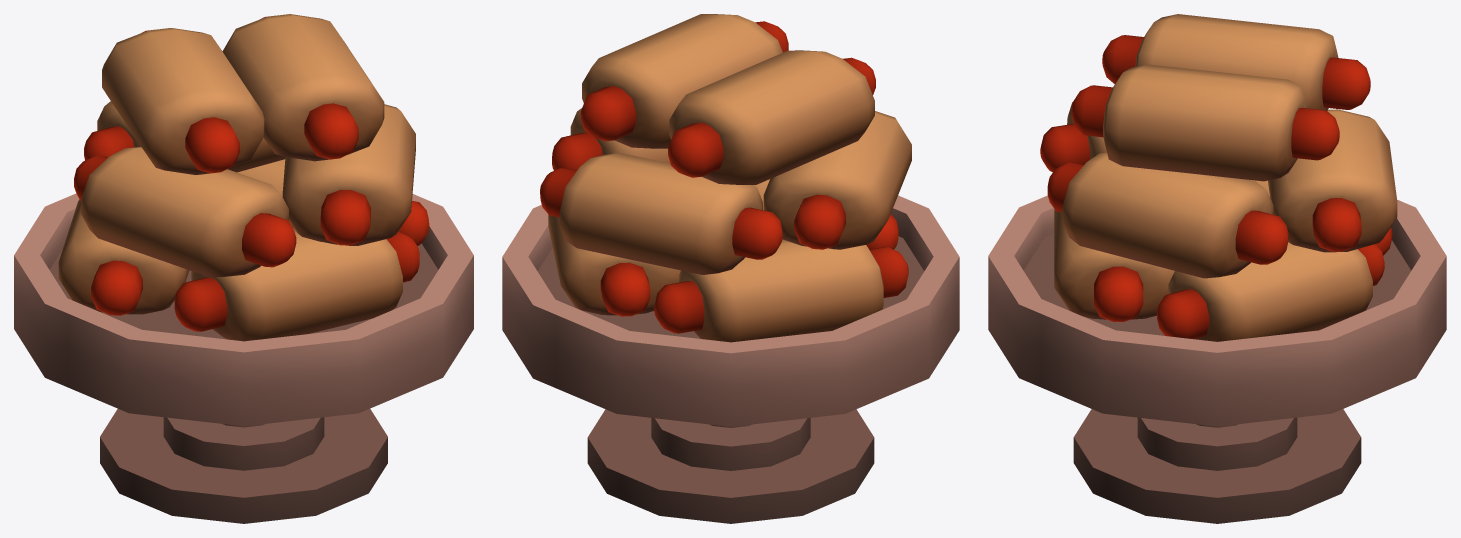
The model's file is Hotdogs.fbx.
3 views of the same model, side by side, from view 1: azimuth 30°, elevation 25°; view 2: azimuth 150°, elevation 25°; view 3: azimuth 270°, elevation 25° (orthographic).
Parts seen in each view (by area): view 1: Cylinder.010, Cube.021, Cube.023, Cube.016, Cube.022, Cube.019, Cube.018, Cube.020, Cube.017; view 2: Cylinder.010, Cube.023, Cube.020, Cube.018, Cube.022, Cube.021, Cube.017, Cube.019, Cube.016; view 3: Cylinder.010, Cube.022, Cube.019, Cube.017, Cube.023, Cube.020, Cube.016, Cube.021.
Boxes of the visible parts, x1,y1,x2,y2 form: Cylinder.010: (14, 193, 473, 523); Cube.021: (74, 146, 296, 277); Cube.023: (102, 28, 264, 174); Cube.016: (174, 227, 419, 341); Cube.022: (222, 14, 384, 161); Cube.019: (282, 104, 415, 245); Cube.018: (58, 199, 189, 315); Cube.020: (84, 101, 285, 172); Cube.017: (237, 159, 429, 245); Cylinder.010: (502, 195, 959, 523); Cube.023: (668, 50, 875, 184); Cube.020: (540, 152, 782, 274); Cube.018: (654, 239, 908, 342); Cube.022: (580, 14, 788, 148); Cube.021: (763, 111, 911, 249); Cube.017: (548, 214, 680, 316); Cube.019: (552, 108, 670, 170); Cube.016: (754, 179, 898, 249); Cylinder.010: (988, 195, 1446, 523); Cube.022: (1071, 64, 1339, 181); Cube.019: (1047, 152, 1288, 278); Cube.017: (1157, 242, 1384, 341); Cube.023: (1102, 14, 1370, 110); Cube.020: (1268, 109, 1397, 252); Cube.016: (1054, 209, 1174, 321); Cube.021: (1040, 102, 1106, 172).
Bounding box in the file's own units: 17.96 × 17.55 × 17.96.
